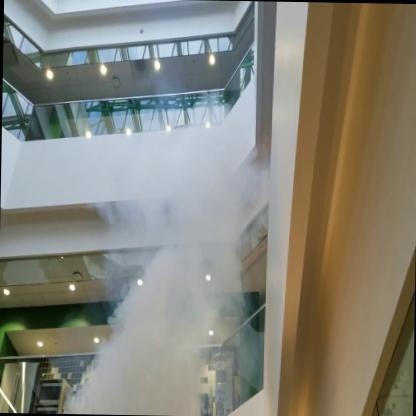smoke: (99, 128, 235, 341)
